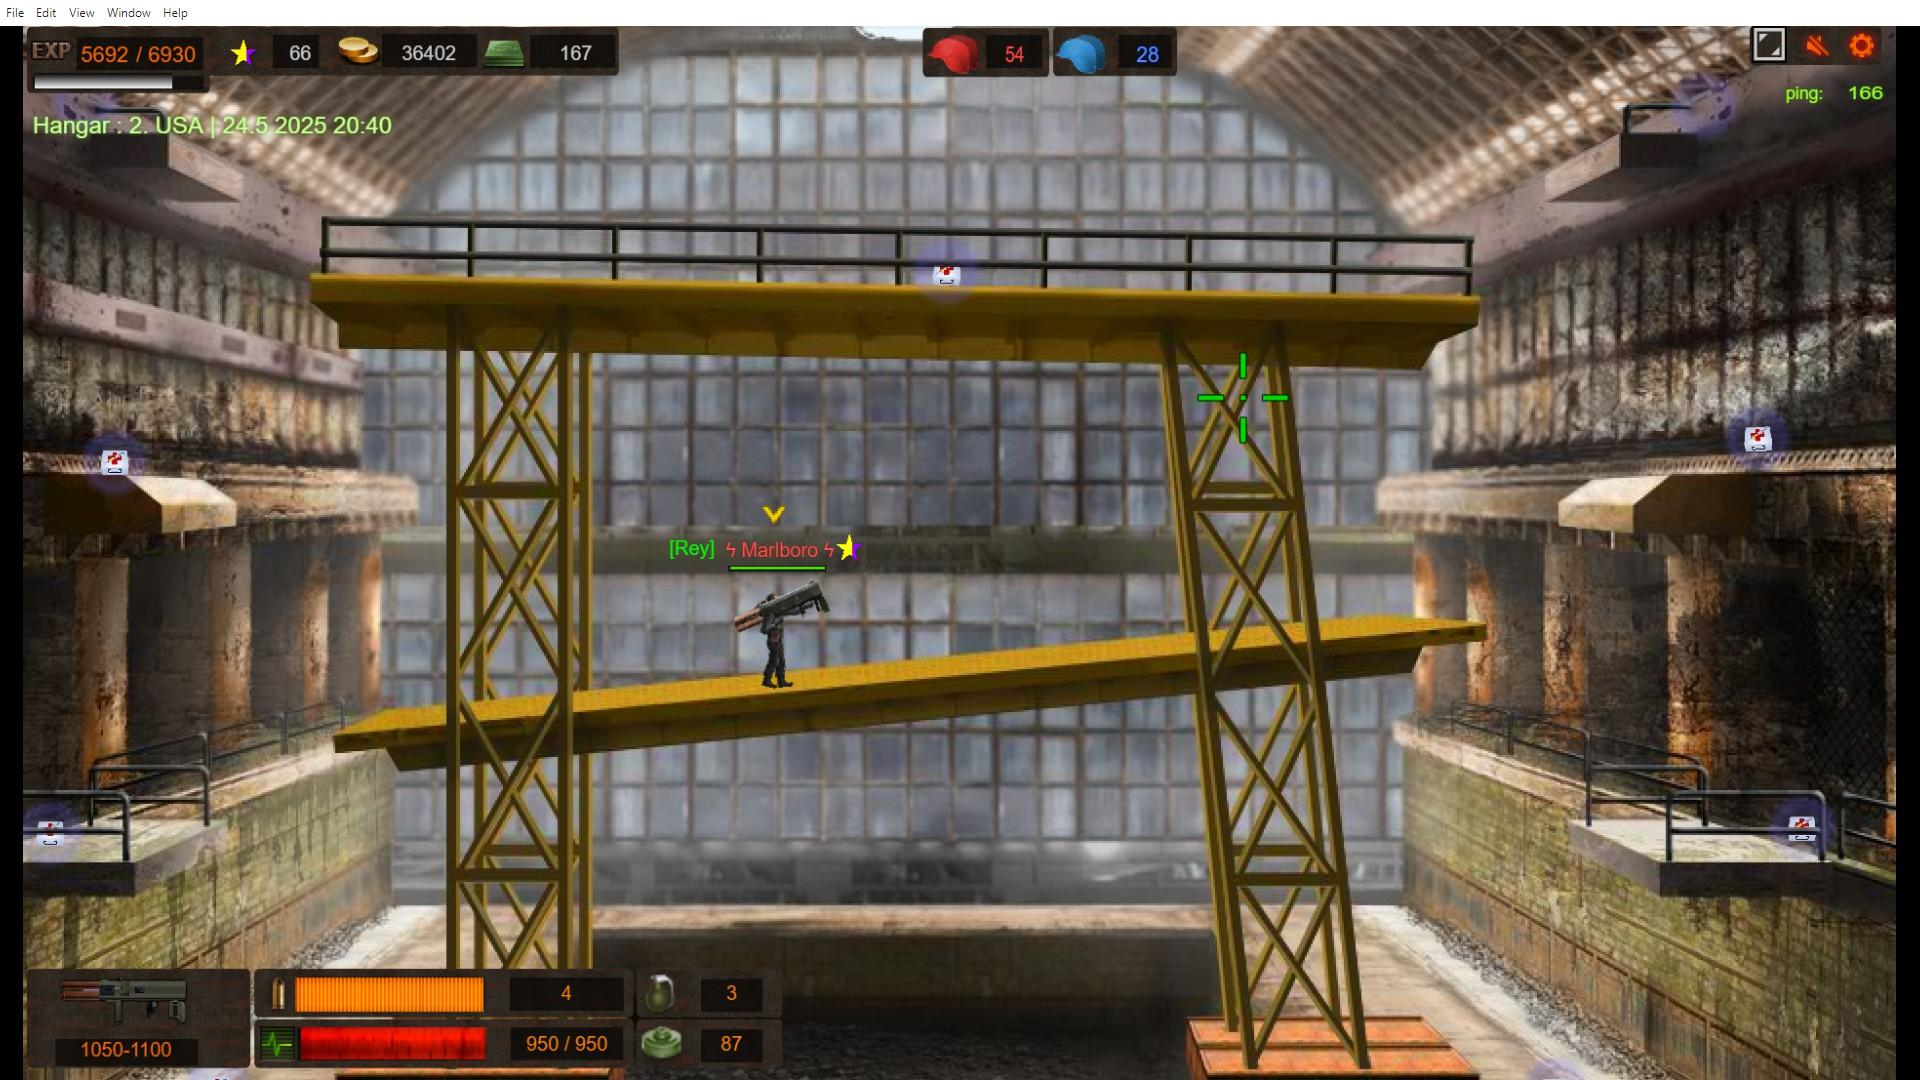enemy: (761, 595, 791, 690)
